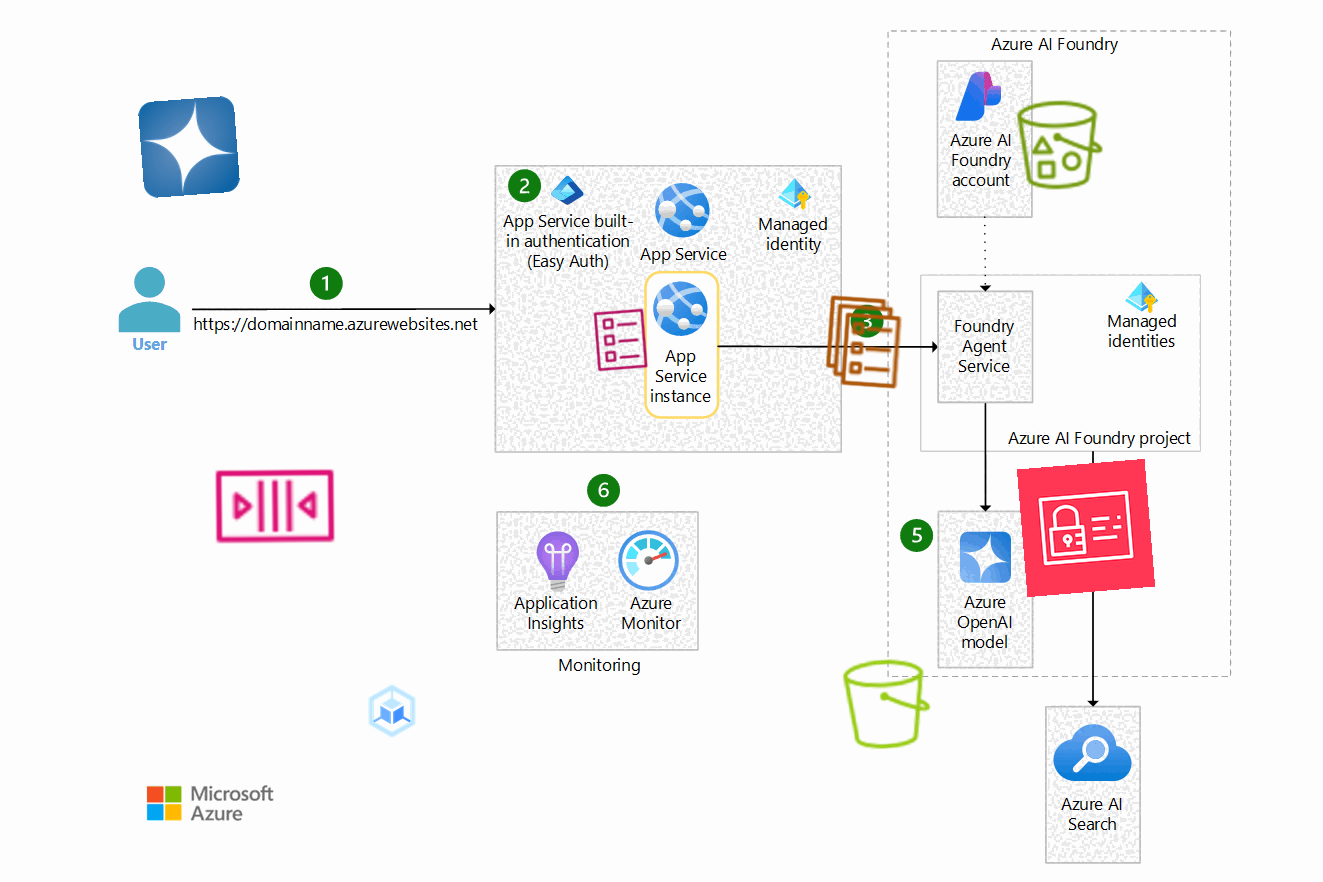aws_cloudformation_template: (585, 305, 655, 375)
aws_elastic_container_service_service: (812, 290, 916, 394)
aws_identity_and_access_management: (1016, 458, 1156, 598)
aws_simple_queue_service_queue: (210, 440, 340, 570)
aws_simple_storage_service_bucket: (836, 653, 938, 755)
aws_simple_storage_service_bucket_with_objects: (1011, 96, 1109, 194)
azure_openai: (137, 95, 241, 199)
gcp_google_kubernetes_engine: (359, 678, 425, 744)
